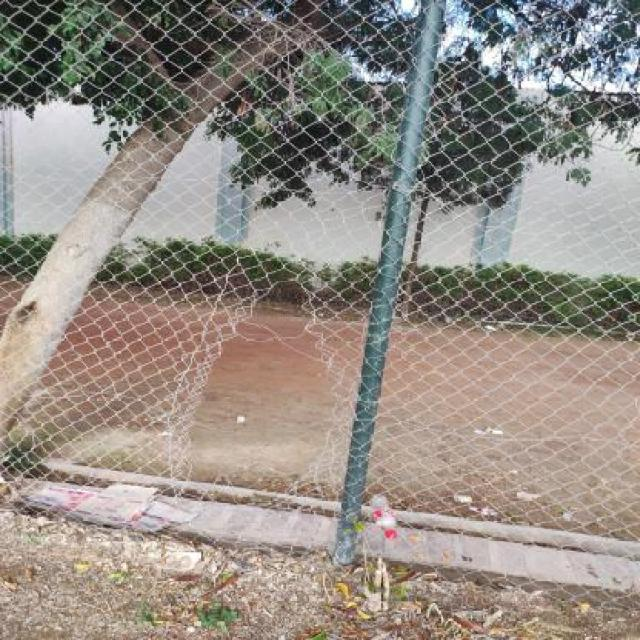fence line: (176, 293, 378, 550)
